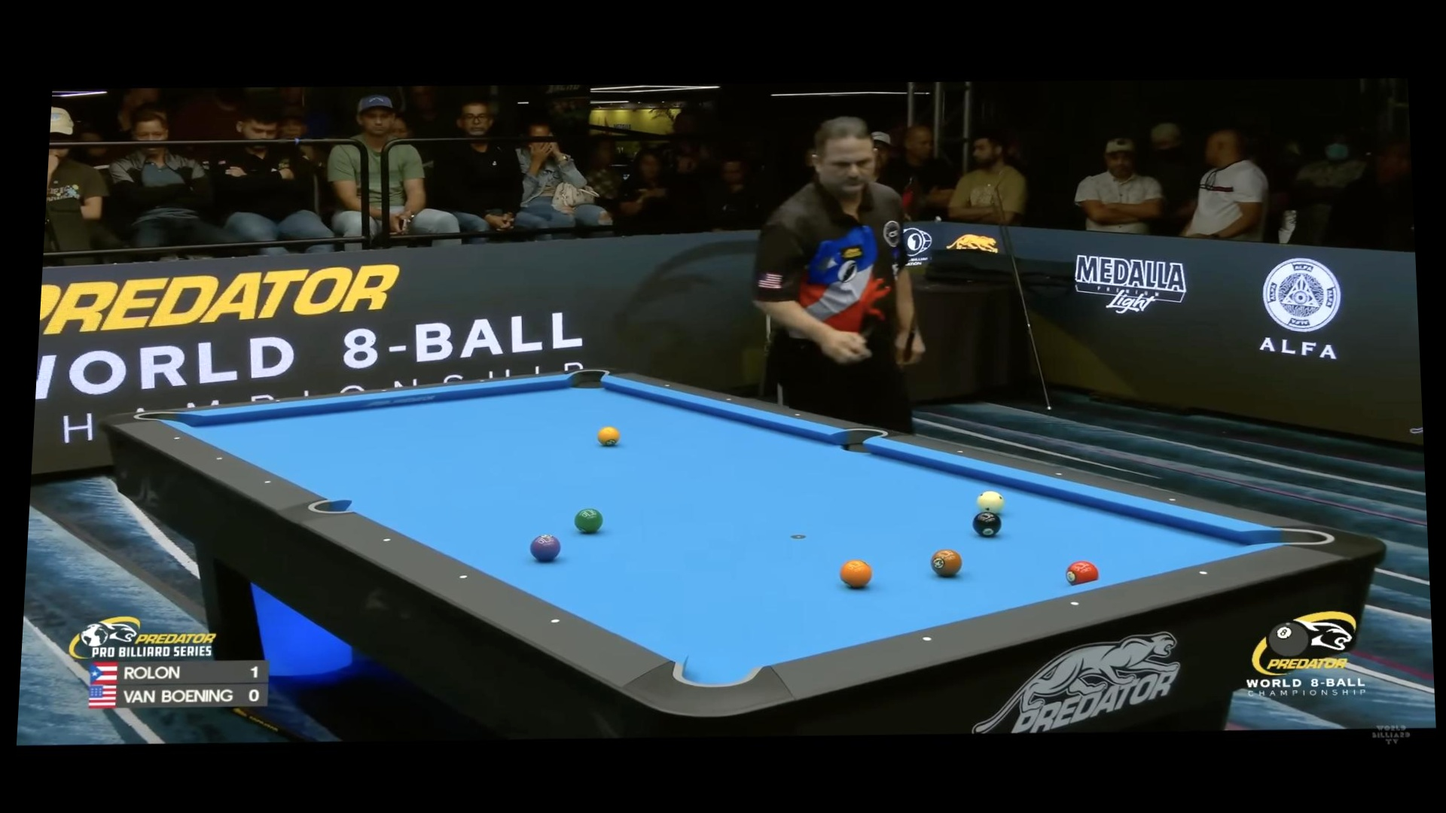Black: (972, 511, 1003, 537)
Cue: (976, 490, 1005, 515)
Solid: (457, 571, 469, 582), (381, 535, 393, 546), (921, 633, 933, 643), (1198, 568, 1210, 578), (549, 616, 561, 626), (1069, 599, 1080, 609), (1166, 494, 1177, 504), (1055, 471, 1063, 478), (956, 448, 964, 455), (274, 397, 282, 404), (380, 387, 387, 394), (265, 479, 272, 485), (216, 456, 223, 462), (479, 377, 486, 383), (174, 435, 180, 441), (794, 413, 800, 418), (726, 397, 732, 402), (664, 383, 670, 388)
Striped: (838, 558, 872, 590), (930, 548, 963, 578), (529, 533, 561, 562), (1065, 560, 1099, 587), (574, 507, 603, 535), (596, 425, 620, 447)
